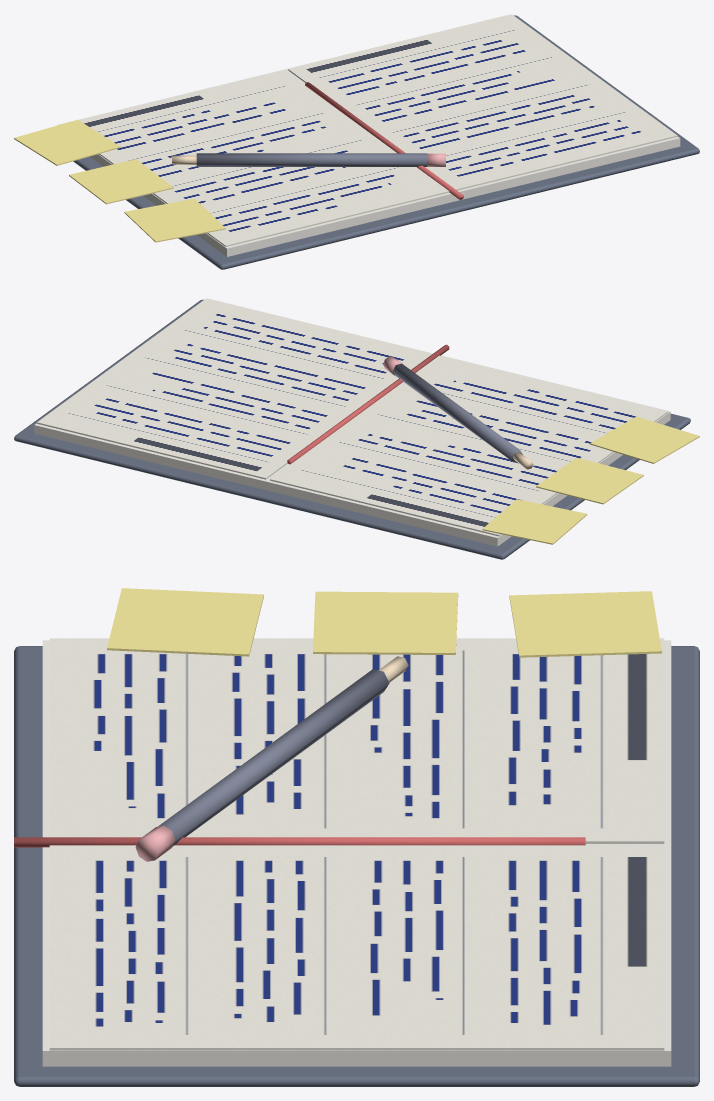
Rendered from escena.casa.agenda_pega.fbx.
3 views of the same model, one above another, from view 1: azimuth 30°, elevation 25°; view 2: azimuth 150°, elevation 25°; view 3: azimuth 270°, elevation 25° (orthographic). The views are drawn at different scales.
Visible parts, largest first — view 1: Hoja izquierda, Hoja derecha, Tapa, Hojas, Lapiz, Post-it, Post-it.001, Post-it.002, Cinta marcadora; view 2: Hoja izquierda, Hoja derecha, Tapa, Hojas, Post-it.002, Post-it.001, Post-it, Lapiz, Cinta marcadora; view 3: Hoja izquierda, Hoja derecha, Tapa, Hojas, Post-it.002, Post-it, Post-it.001, Lapiz, Cinta marcadora, Goma.
Part boxes in pixels (left/top/right/bottom): Hoja izquierda: left=288, top=14, right=677, bottom=190; Hoja derecha: left=79, top=70, right=449, bottom=246; Tapa: left=73, top=15, right=699, bottom=269; Hojas: left=58, top=14, right=680, bottom=256; Lapiz: left=196, top=153, right=427, bottom=166; Post-it: left=14, top=119, right=120, bottom=165; Post-it.001: left=69, top=159, right=173, bottom=204; Post-it.002: left=124, top=198, right=225, bottom=242; Cinta marcadora: left=305, top=82, right=463, bottom=199; Hoja izquierda: left=37, top=298, right=432, bottom=479; Hoja derecha: left=270, top=355, right=667, bottom=536; Tapa: left=14, top=299, right=690, bottom=559; Hojas: left=34, top=298, right=670, bottom=546; Post-it.002: left=590, top=416, right=699, bottom=463; Post-it.001: left=536, top=458, right=643, bottom=504; Post-it: left=482, top=499, right=587, bottom=544; Lapiz: left=392, top=363, right=522, bottom=462; Cinta marcadora: left=287, top=344, right=449, bottom=464; Hoja izquierda: left=49, top=845, right=664, bottom=1050; Hoja derecha: left=49, top=638, right=664, bottom=843; Tapa: left=14, top=646, right=699, bottom=1086; Hojas: left=42, top=640, right=671, bottom=1066; Post-it.002: left=107, top=588, right=263, bottom=656; Post-it: left=509, top=591, right=661, bottom=657; Post-it.001: left=313, top=591, right=458, bottom=654; Lapiz: left=158, top=669, right=389, bottom=845; Cinta marcadora: left=14, top=837, right=585, bottom=847; Goma: left=135, top=825, right=175, bottom=861.
Bounding box in the file's own units: 0.3875 × 0.0201 × 0.24.
Materials: 9 (2 with a texture image).
